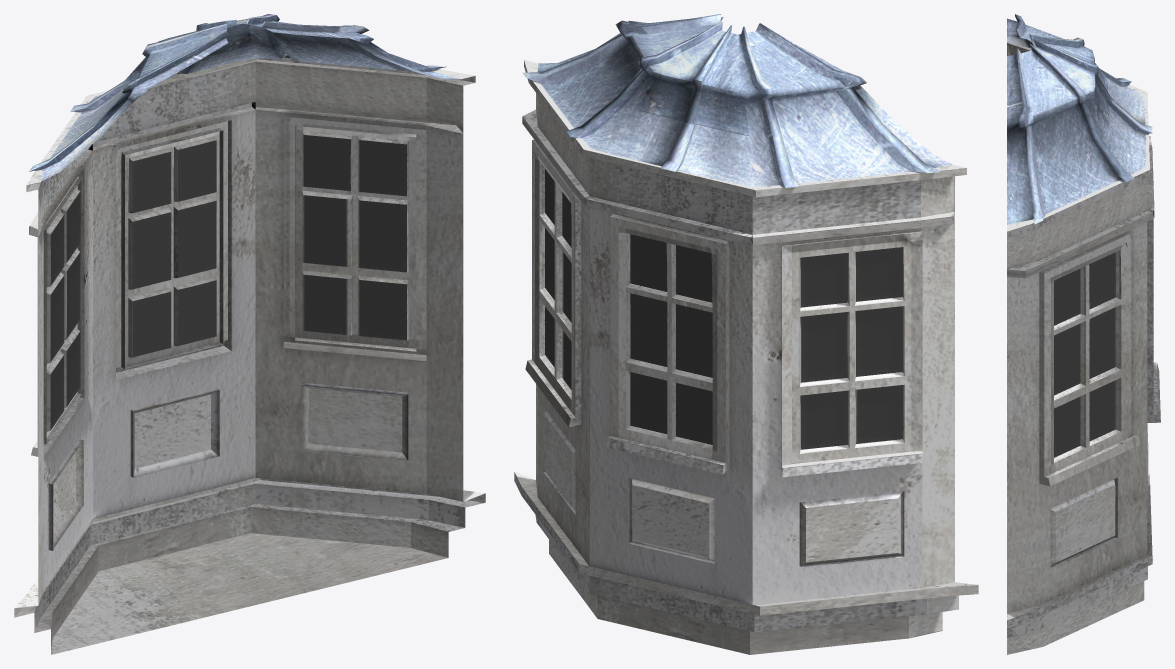
The model's file is bay window.fbx.
The picture shows the model from 3 angles, left to right: view 1: azimuth 30°, elevation 25°; view 2: azimuth 150°, elevation 25°; view 3: azimuth 270°, elevation 25°; orthographic projection. The views are drawn at different scales.
Visible parts, largest first — view 1: Cube.002; view 2: Cube.002; view 3: Cube.002.
Part boxes in pixels (bbox=[...]): Cube.002: bbox=[14, 14, 485, 654]; Cube.002: bbox=[514, 14, 978, 654]; Cube.002: bbox=[1007, 14, 1160, 654].
Size of the model in its own units: 4.7 by 5.49 by 1.45.
1 material, 1 textured.
